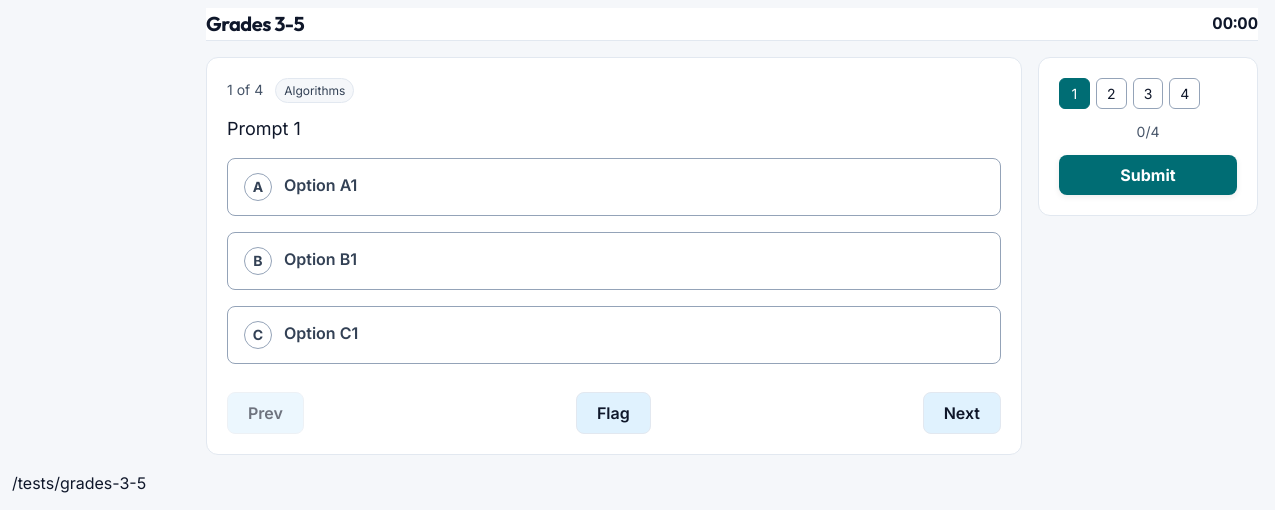
TakeTest › question view › selects an answer and marks it in the palette and the progress count
The image size is (1275, 510).
Expected: the text "Prompt 1" is shown, [227,118,301,139]
Expected: the text "0/4" is shown, [1136,123,1159,140]
Click the radio button labelled "B Option B1" at (320, 259), box [227,232,1001,290]
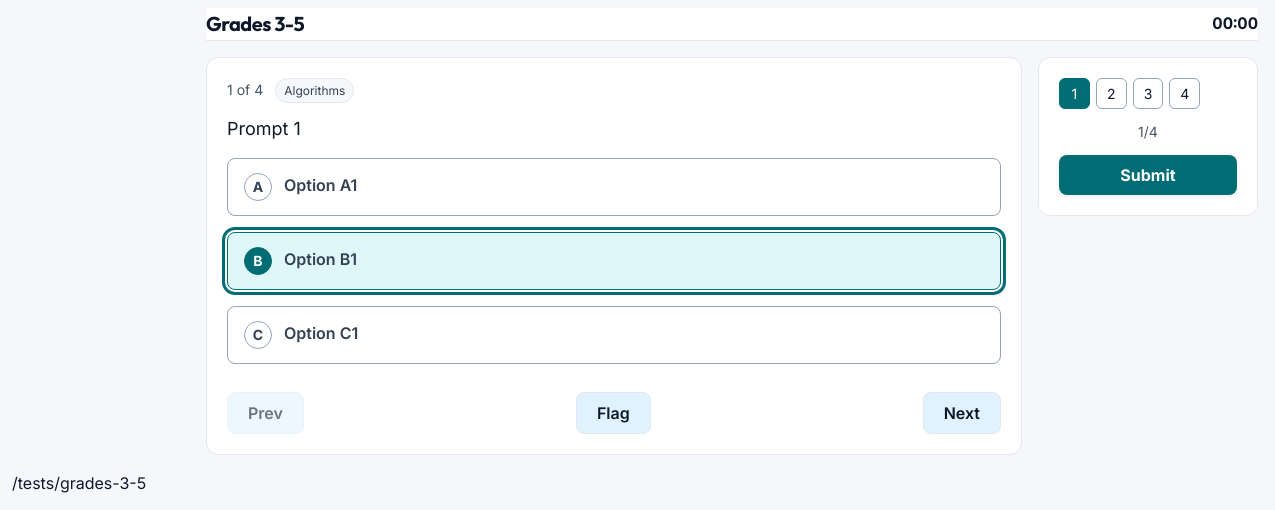
Expected: the button named "Question 1, answered" is shown, [1059,78,1090,109]
Result: the radio button labelled "B Option B1" is checked at [227,232,1001,290]
Result: the text "1/4" is shown at [1138,123,1158,140]
